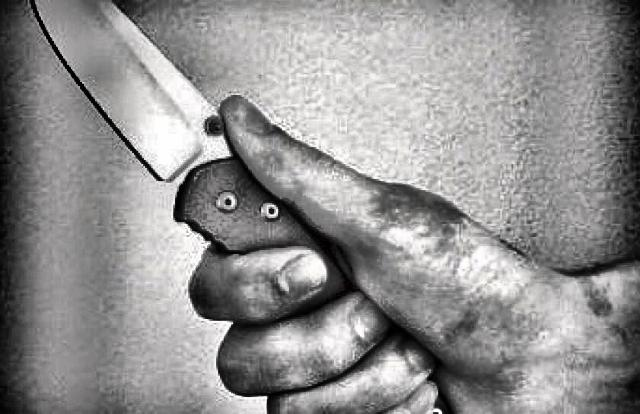knife: (20, 0, 440, 378)
